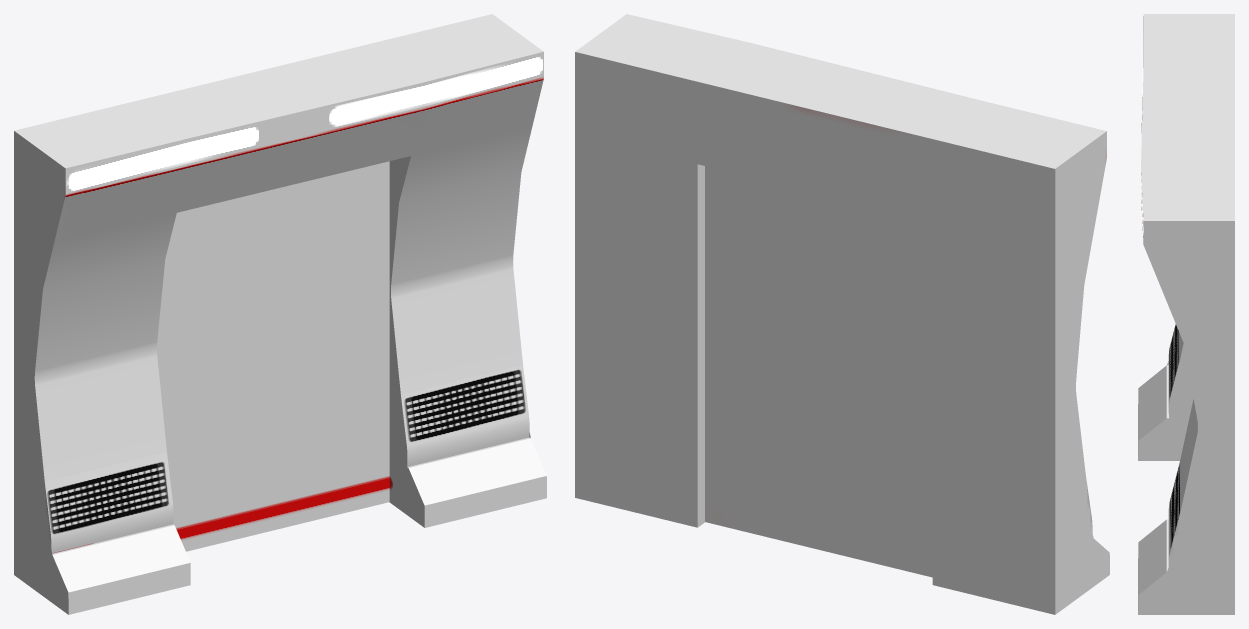
The model's file is door_hand_of_dominion v03.fbx.
3 renders of one model, left to right at view 1: azimuth 30°, elevation 25°; view 2: azimuth 150°, elevation 25°; view 3: azimuth 270°, elevation 25°, orthographic. The views are drawn at different scales.
Parts seen in each view (by area): view 1: DoorWall, DoorWall.001; view 2: DoorWall, DoorWall.001; view 3: DoorWall.
Boxes of the visible parts, box(x1,y1,x2,y2) form: DoorWall: box(14, 14, 546, 614); DoorWall.001: box(157, 161, 389, 551); DoorWall: box(575, 14, 1109, 614); DoorWall.001: box(705, 166, 932, 577); DoorWall: box(1138, 14, 1234, 614).
Bounding box in the file's own units: 515 × 457 × 102.
